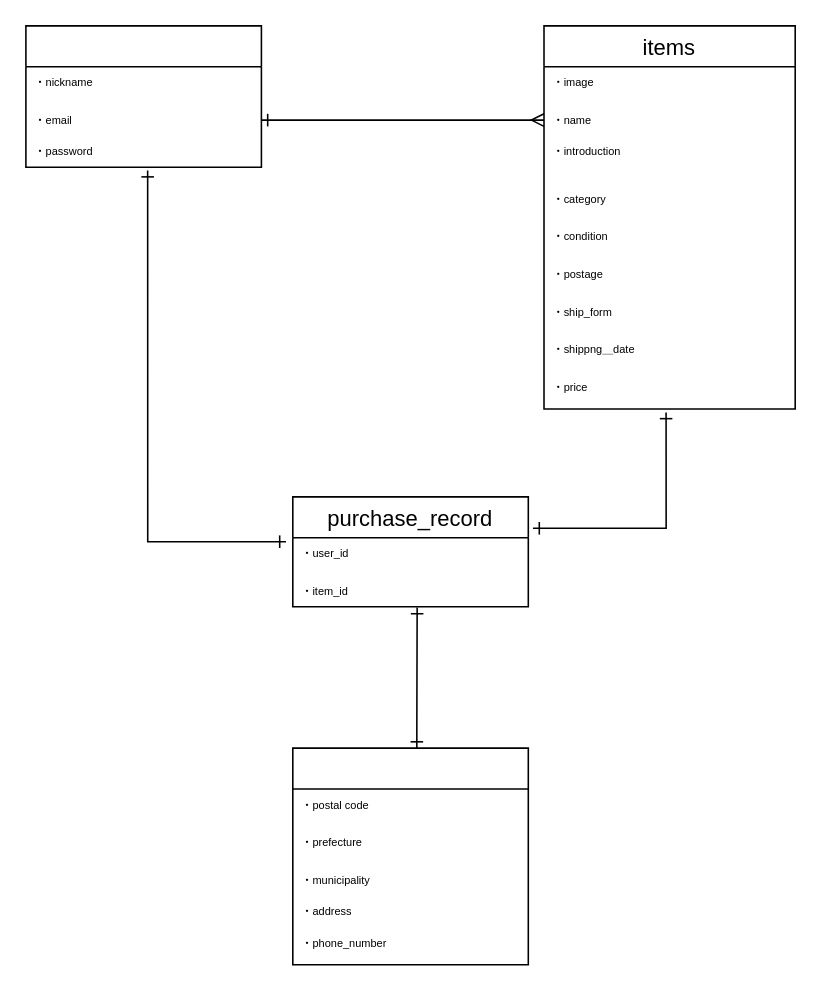
Some shapes in this 821 by 991 pixel diagram are drawn without their labels. The box of each missing label's shape, as (x1, y1, x2, y2) in pixels:
shipping_address: (291, 747, 528, 965)
users: (24, 24, 261, 167)
